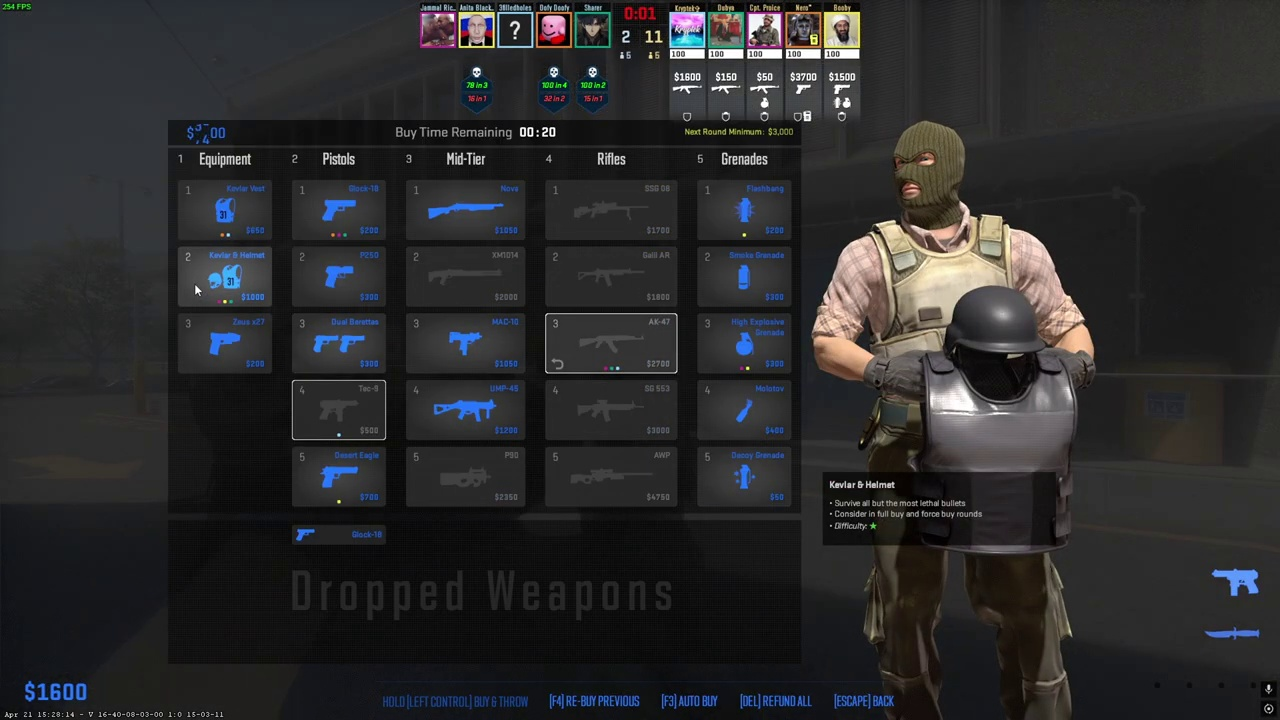Terrorist: (855, 122, 1080, 720)
